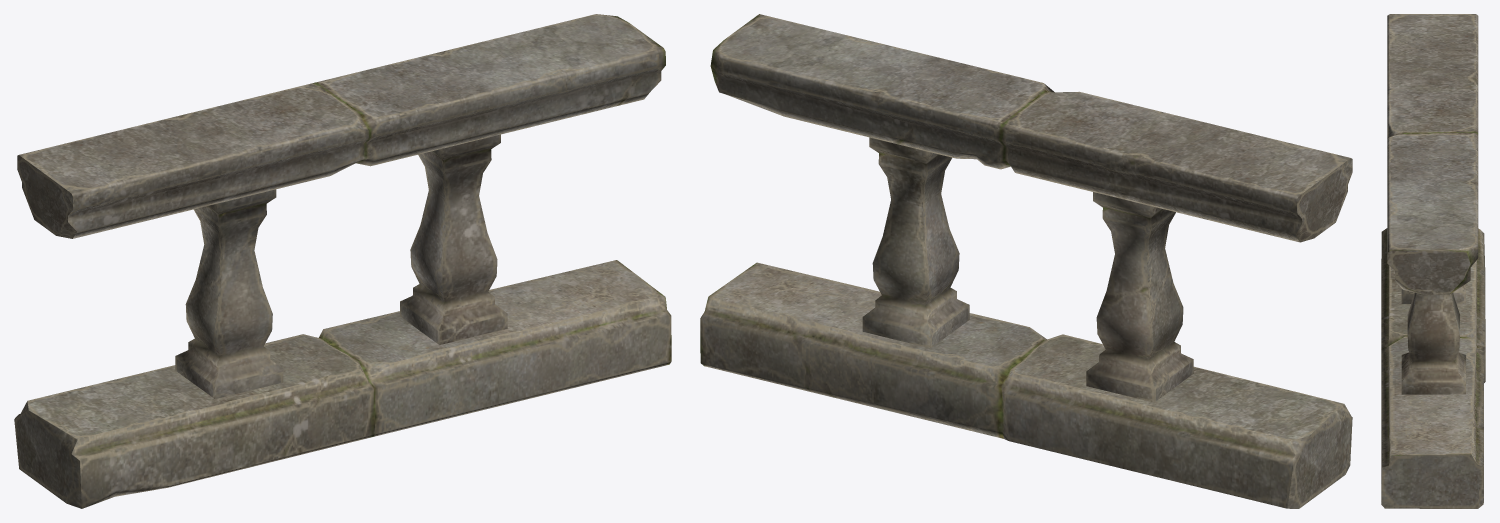
File: SM_Ballustrade_Half_01.fbx
3 views of the same model, side by side, from view 1: azimuth 30°, elevation 25°; view 2: azimuth 150°, elevation 25°; view 3: azimuth 270°, elevation 25° (orthographic). The views are drawn at different scales.
Parts seen in each view (by area): view 1: SM_Ballustrade_Half_01_LOD0; view 2: SM_Ballustrade_Half_01_LOD0; view 3: SM_Ballustrade_Half_01_LOD0.
Boxes of the visible parts, x1,y1,x2,y2 form: SM_Ballustrade_Half_01_LOD0: (14, 14, 671, 508); SM_Ballustrade_Half_01_LOD0: (700, 14, 1352, 508); SM_Ballustrade_Half_01_LOD0: (1381, 14, 1485, 508).
Size of what is drawn, in the model's own units: 200 by 101 by 37.19.
